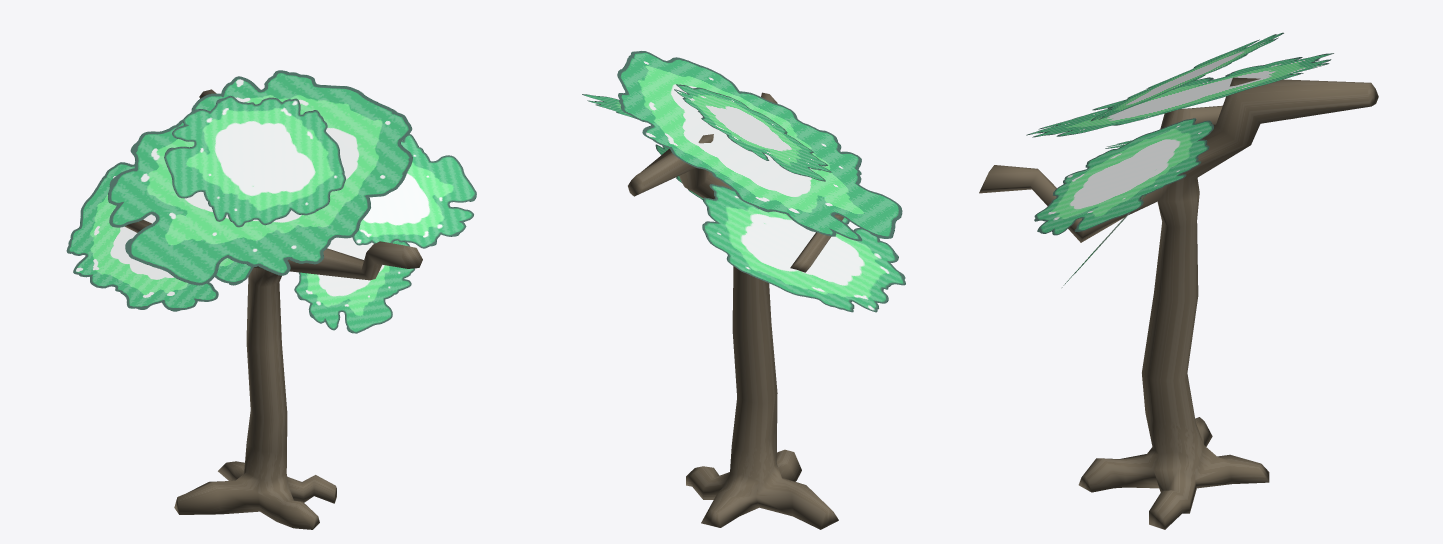
File: ArbolTextura1.fbx
3 views of the same model, side by side, from view 1: azimuth 30°, elevation 25°; view 2: azimuth 150°, elevation 25°; view 3: azimuth 270°, elevation 25° (orthographic). The views are drawn at different scales.
Visible parts, largest first — view 1: ArbolTextura; view 2: ArbolTextura; view 3: ArbolTextura.
Boxes of the visible parts, left/top/right/bottom form: ArbolTextura: left=66, top=70, right=476, bottom=529; ArbolTextura: left=582, top=51, right=905, bottom=529; ArbolTextura: left=979, top=32, right=1378, bottom=529.
Bounding box in the file's own units: 2600 × 2630 × 2342.
Materials: 1 (1 with a texture image).
